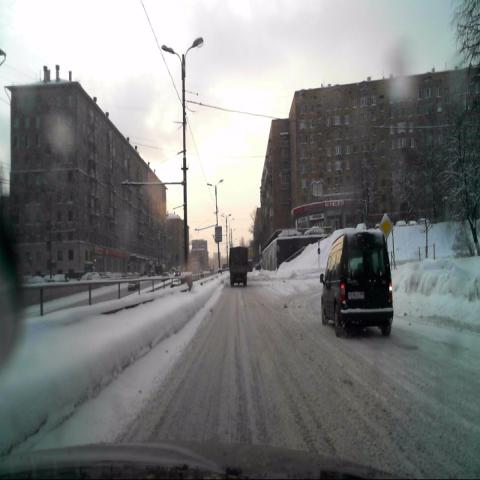2_1: (377, 213, 394, 240)
